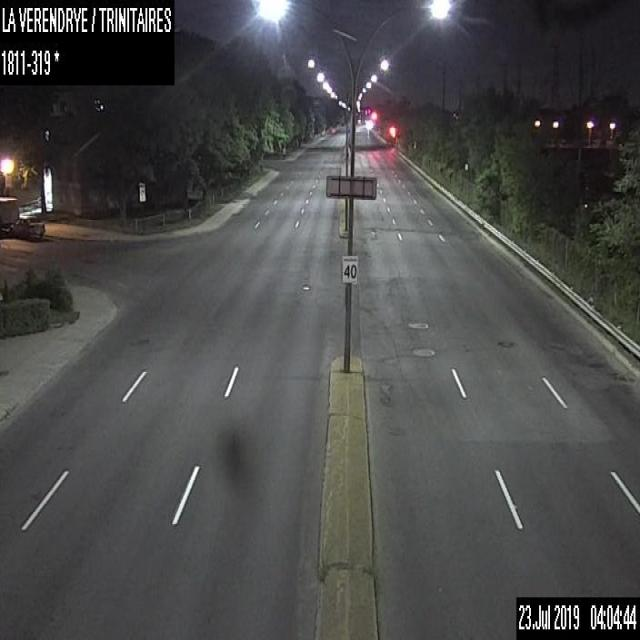vehicle: (10, 214, 44, 238), (0, 196, 18, 232)
